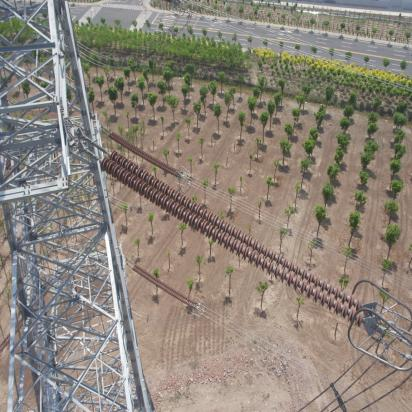insulator: (85, 145, 373, 329), (102, 130, 184, 179), (130, 263, 198, 310)
